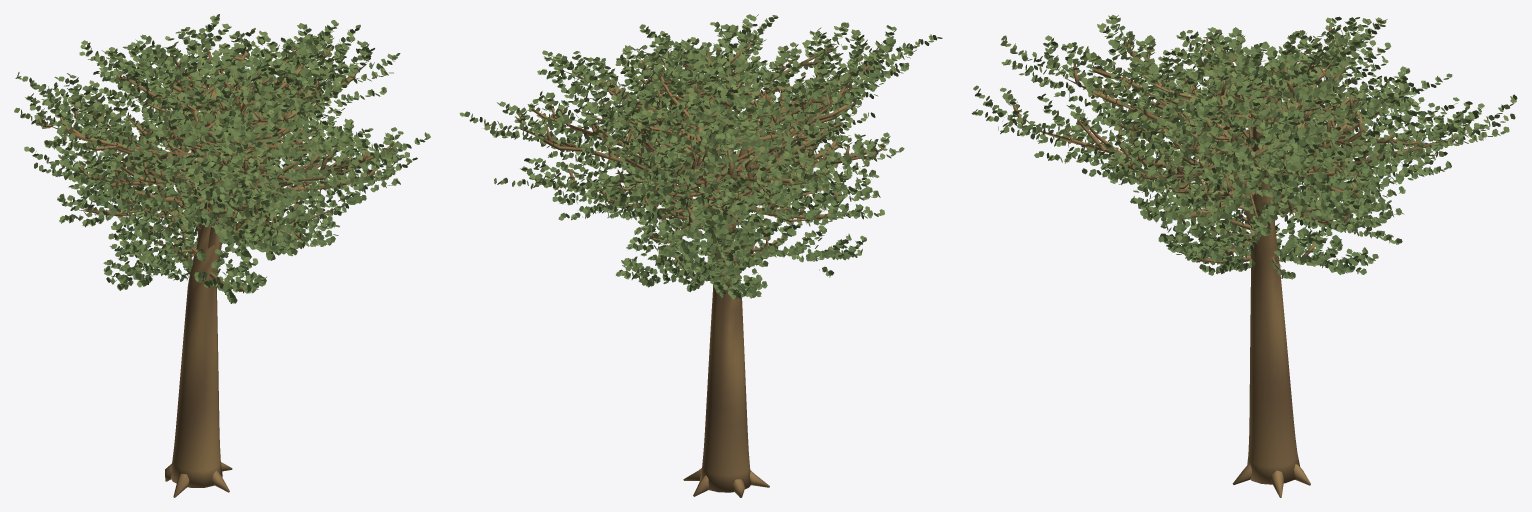
The model's file is green_columnar_lod0.glb.
3 views of the same model, side by side, from view 1: azimuth 30°, elevation 25°; view 2: azimuth 150°, elevation 25°; view 3: azimuth 270°, elevation 25° (orthographic). The views are drawn at different scales.
Visible parts, largest first — view 1: Leaves.003, Trunk.003; view 2: Leaves.003, Trunk.003; view 3: Leaves.003, Trunk.003.
Part boxes in pixels (x1=…): Leaves.003: x1=14, y1=14, x2=430, y2=303; Trunk.003: x1=38, y1=43, x2=394, y2=497; Leaves.003: x1=459, y1=14, x2=942, y2=299; Trunk.003: x1=517, y1=30, x2=884, y2=497; Leaves.003: x1=971, y1=15, x2=1517, y2=279; Trunk.003: x1=1012, y1=24, x2=1458, y2=497.
Size of the model in its own units: 5.33 by 5.89 by 6.58.
